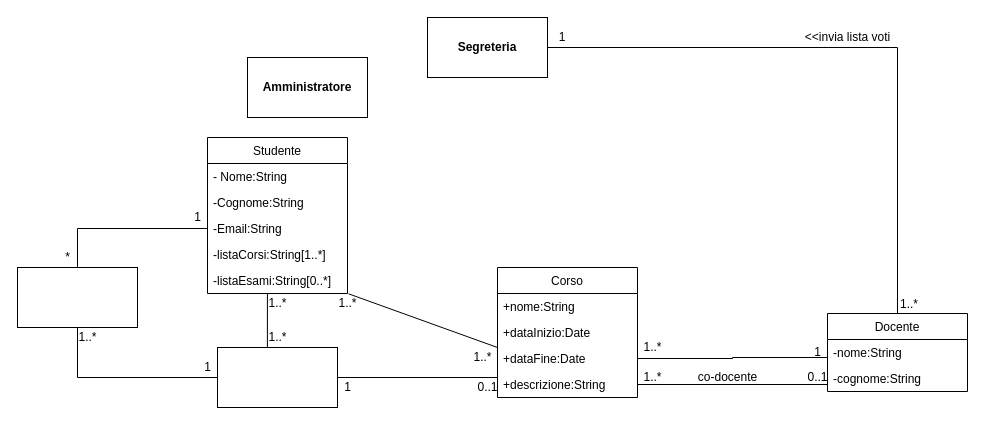
This 985x425 diagram has some shape labels left out. Here are the shapes that lost their labels. From the top down, the centre of each, then its label:
the point at 77,297: Voto
the point at 277,377: Esame
